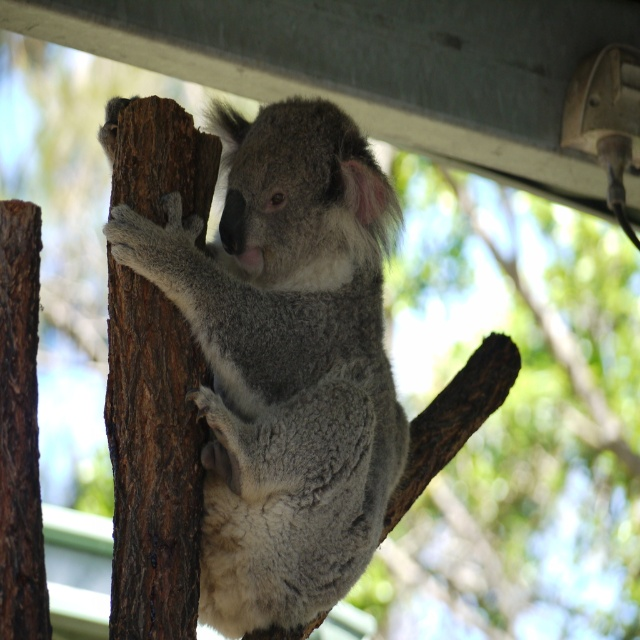Koala: (102, 95, 411, 639)
